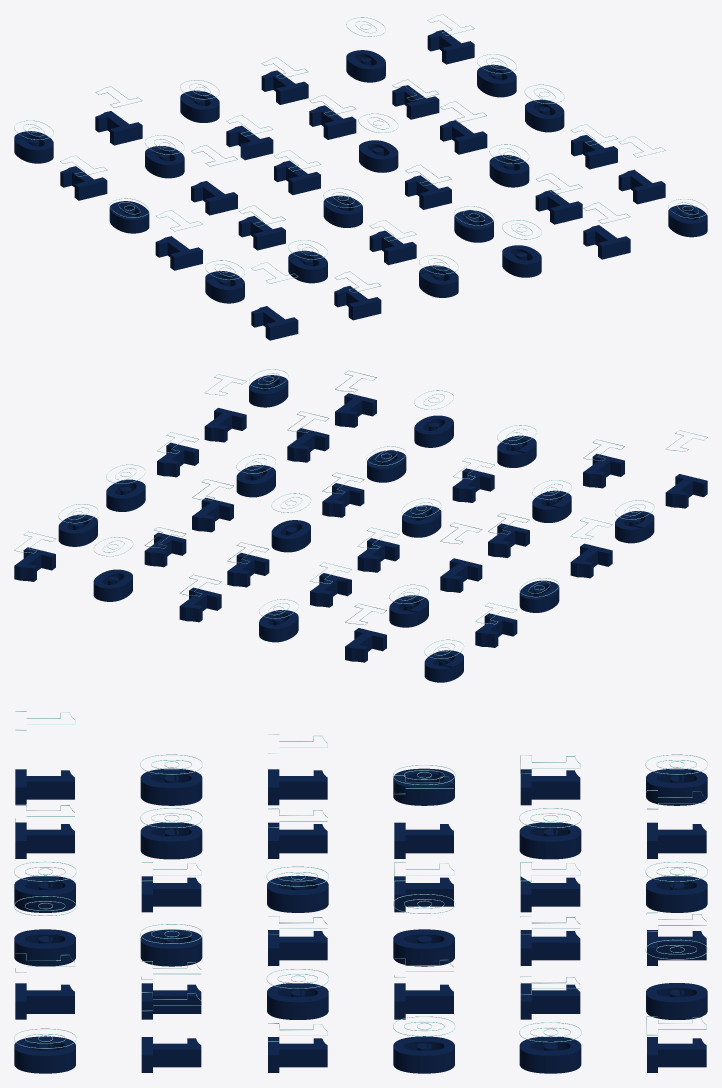
The model's file is Data02.gltf.
The picture shows the model from 3 angles, top to bottom: view 1: azimuth 30°, elevation 25°; view 2: azimuth 150°, elevation 25°; view 3: azimuth 270°, elevation 25°; orthographic projection. The views are drawn at different scales.
Visible parts, largest first — view 1: Curve.068, Curve.064, Curve.059, Curve.071, Curve.067, Curve.065, Curve.063, Curve.057, Curve.058, Curve.066, Curve.061, Curve.060 (+24 smaller); view 2: Curve.068, Curve.071, Curve.069, Curve.059, Curve.060, Curve.066, Curve.063, Curve.062, Curve.067, Curve.064, Curve.061, Curve.057 (+24 smaller); view 3: Curve.057, Curve.069, Curve.056, Curve.066, Curve.061, Curve.065, Curve.059, Curve.063, Curve.060, Curve.068, Curve.071, Curve.062 (+24 smaller).
Boxes of the visible parts, x1,y1,x2,y2 form: Curve.068: (109, 201, 149, 233); Curve.064: (489, 155, 529, 187); Curve.059: (502, 245, 541, 277); Curve.071: (14, 131, 53, 163); Curve.067: (346, 50, 385, 82); Curve.065: (525, 99, 564, 132); Curve.063: (359, 140, 398, 172); Curve.057: (205, 271, 244, 303); Curve.058: (419, 265, 458, 297); Curve.066: (477, 64, 516, 97); Curve.061: (454, 210, 493, 242); Curve.060: (668, 204, 707, 237); Curve.068: (519, 580, 559, 612); Curve.071: (424, 650, 463, 682); Curve.069: (389, 595, 428, 627); Curve.059: (414, 415, 453, 447); Curve.060: (249, 375, 288, 407); Curve.066: (58, 514, 97, 546); Curve.063: (271, 520, 310, 552); Curve.062: (402, 505, 441, 537); Curve.067: (93, 569, 132, 601); Curve.064: (236, 465, 275, 497); Curve.061: (367, 450, 406, 482); Curve.057: (615, 511, 654, 543); Curve.057: (140, 768, 202, 805); Curve.069: (519, 822, 581, 859); Curve.056: (140, 822, 202, 859); Curve.066: (519, 1036, 581, 1073); Curve.061: (140, 929, 202, 966); Curve.065: (393, 1036, 454, 1073); Curve.059: (14, 929, 75, 966); Curve.063: (393, 929, 454, 966); Curve.060: (14, 1036, 75, 1073); Curve.068: (393, 768, 454, 805); Curve.071: (646, 768, 707, 805); Curve.062: (267, 875, 328, 912).
Bounding box in the file's own units: 5.7 × 0.6994 × 5.81.
